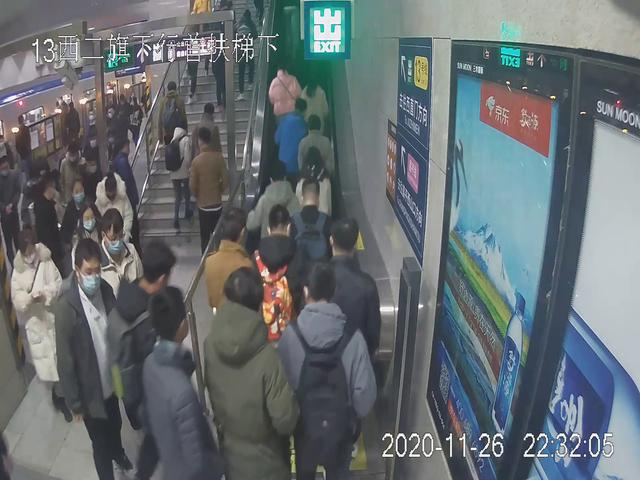person: (197, 272, 298, 480), (53, 238, 136, 479), (282, 265, 371, 479), (139, 285, 217, 477), (9, 230, 74, 407), (186, 129, 225, 249), (266, 60, 306, 151), (167, 119, 194, 238), (272, 95, 309, 179), (157, 79, 186, 179)
